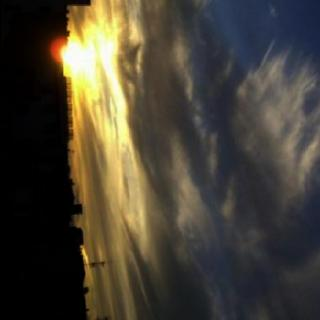Cirrus: (71, 0, 320, 320)
